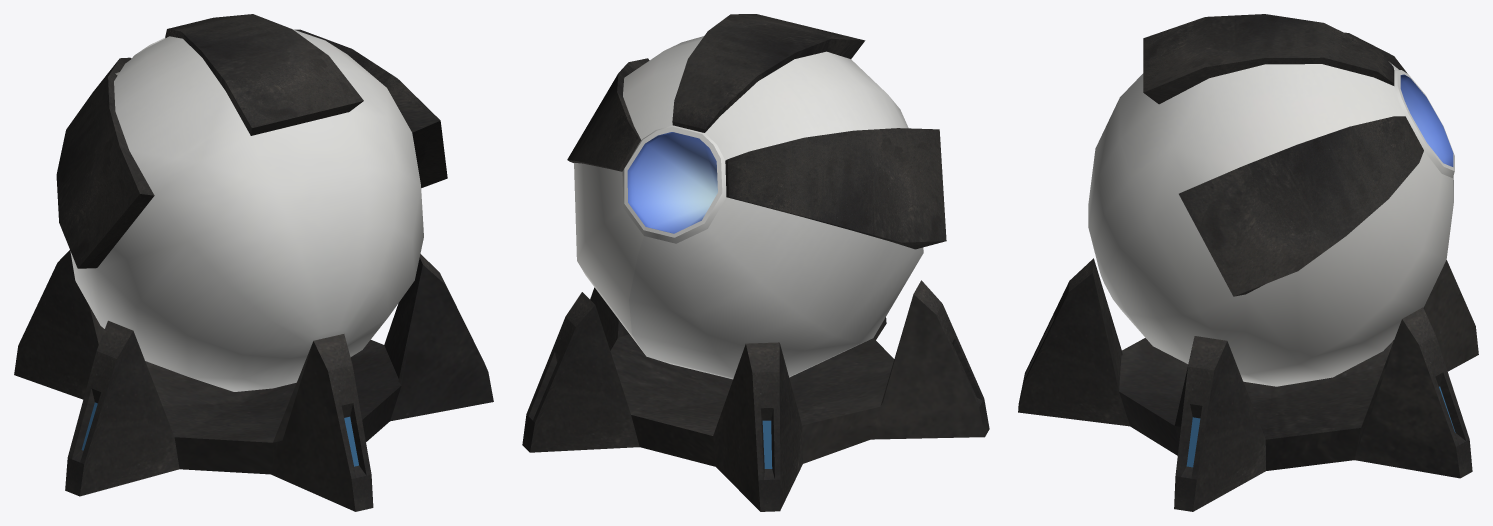
File: slow02.fbx
3 views of the same model, side by side, from view 1: azimuth 30°, elevation 25°; view 2: azimuth 150°, elevation 25°; view 3: azimuth 270°, elevation 25° (orthographic). The views are drawn at different scales.
Parts seen in each view (by area): view 1: pSphere5, polySurface93; view 2: pSphere5, polySurface93; view 3: pSphere5, polySurface93.
Boxes of the visible parts, bbox=[...] form: pSphere5: bbox=[56, 14, 447, 391]; polySurface93: bbox=[14, 250, 493, 511]; pSphere5: bbox=[567, 14, 946, 379]; polySurface93: bbox=[522, 280, 989, 511]; pSphere5: bbox=[1088, 14, 1454, 386]; polySurface93: bbox=[1018, 258, 1478, 511].
Size of the model in its own units: 16.82 by 14.5 by 16.13.
